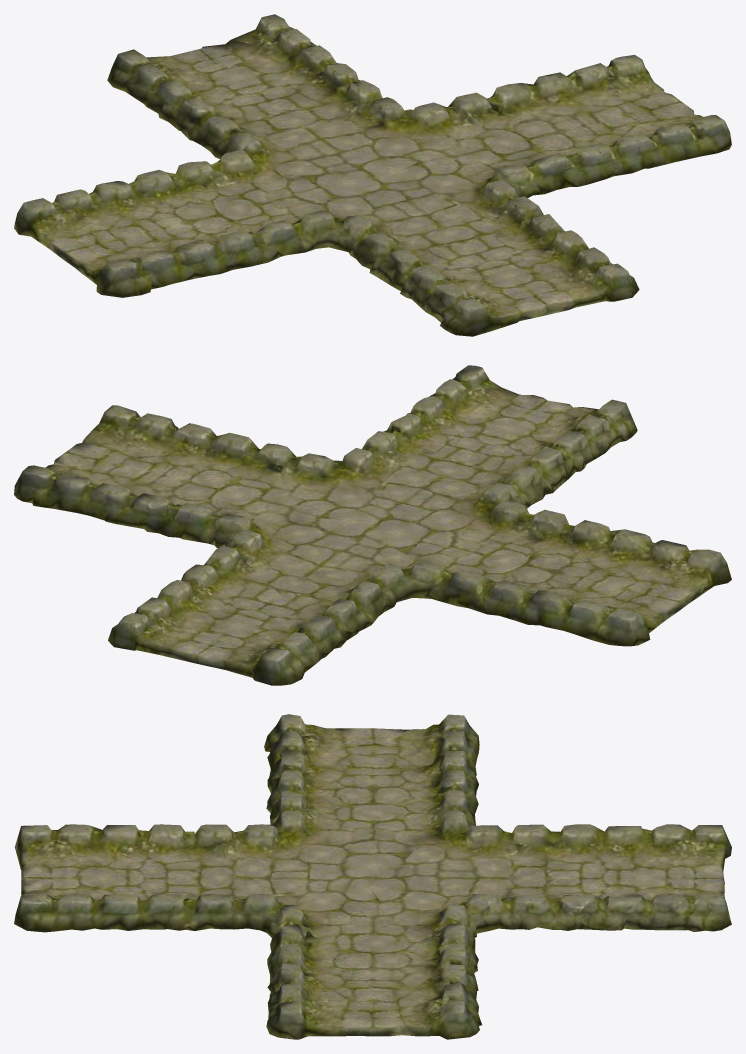
File: road-crossing.glb
3 renders of one model, top to bottom at view 1: azimuth 30°, elevation 25°; view 2: azimuth 150°, elevation 25°; view 3: azimuth 270°, elevation 25°, orthographic.
Bounding box in the file's own units: 1.91 × 0.0686 × 1.88.
Materials: 1 (1 with a texture image).
